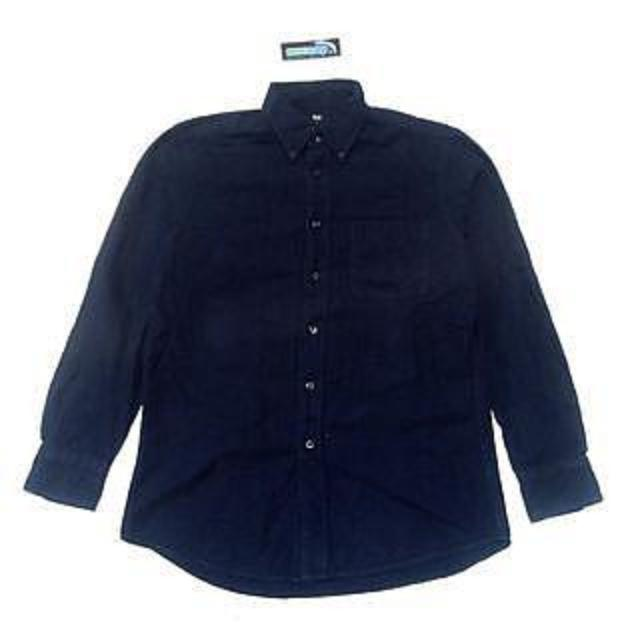SHIRT: (9, 65, 640, 608)
